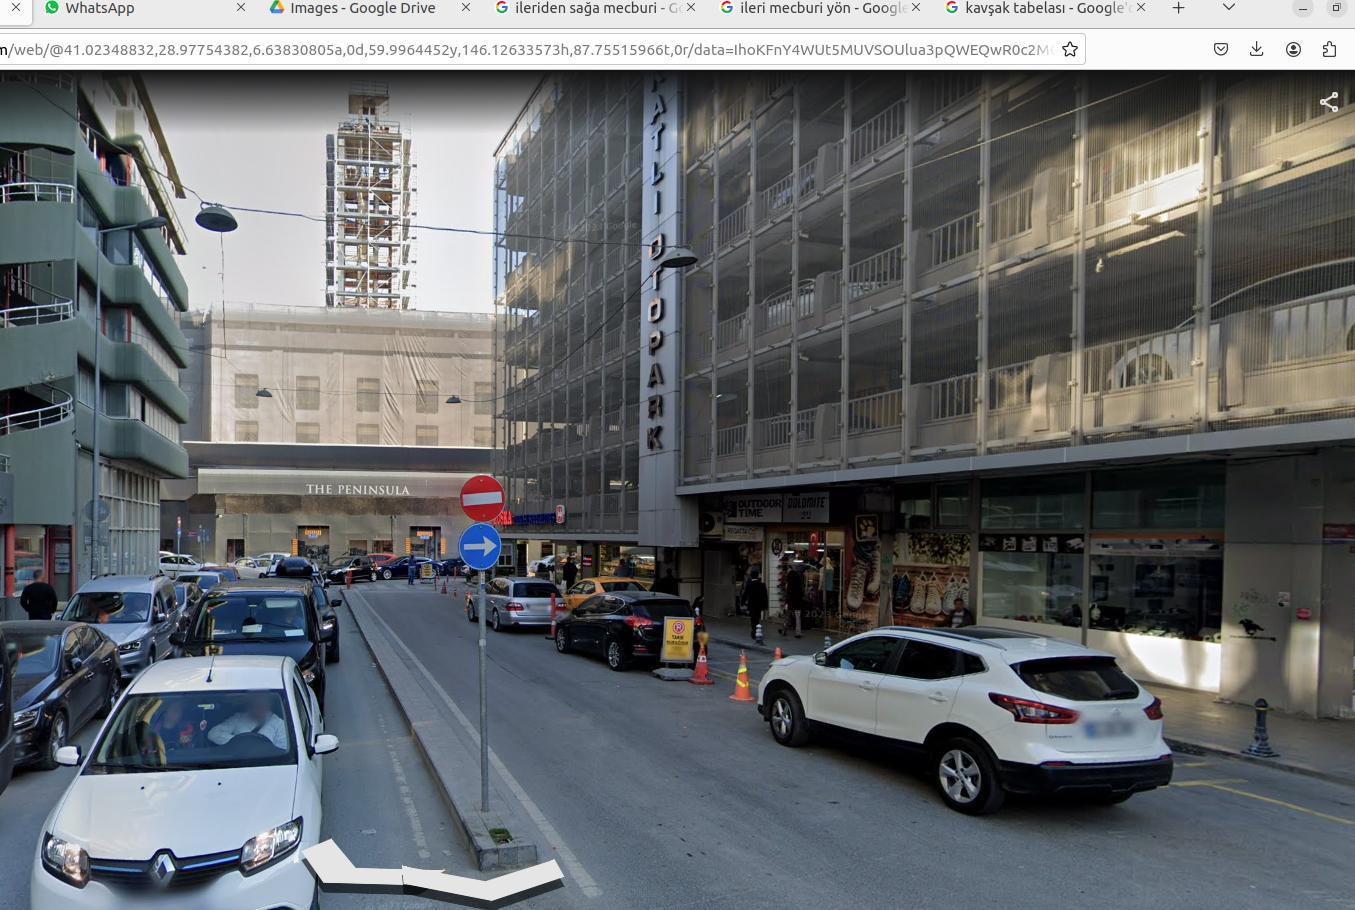turnright: (459, 522, 504, 571)
